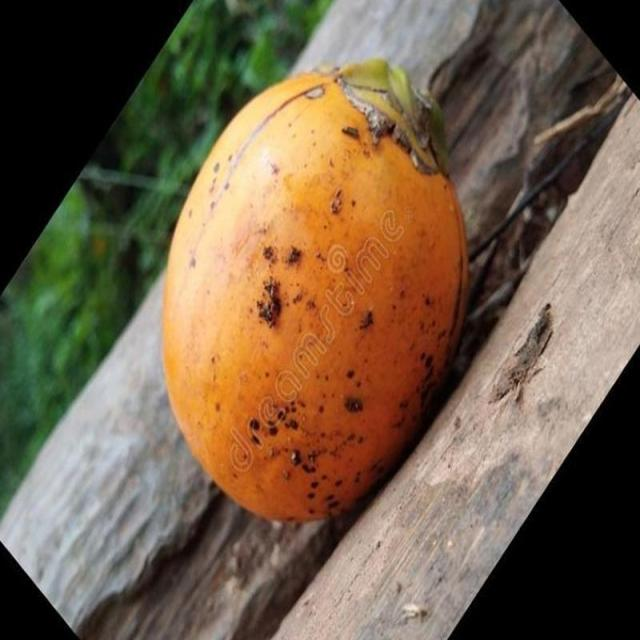good: (159, 58, 469, 524)
